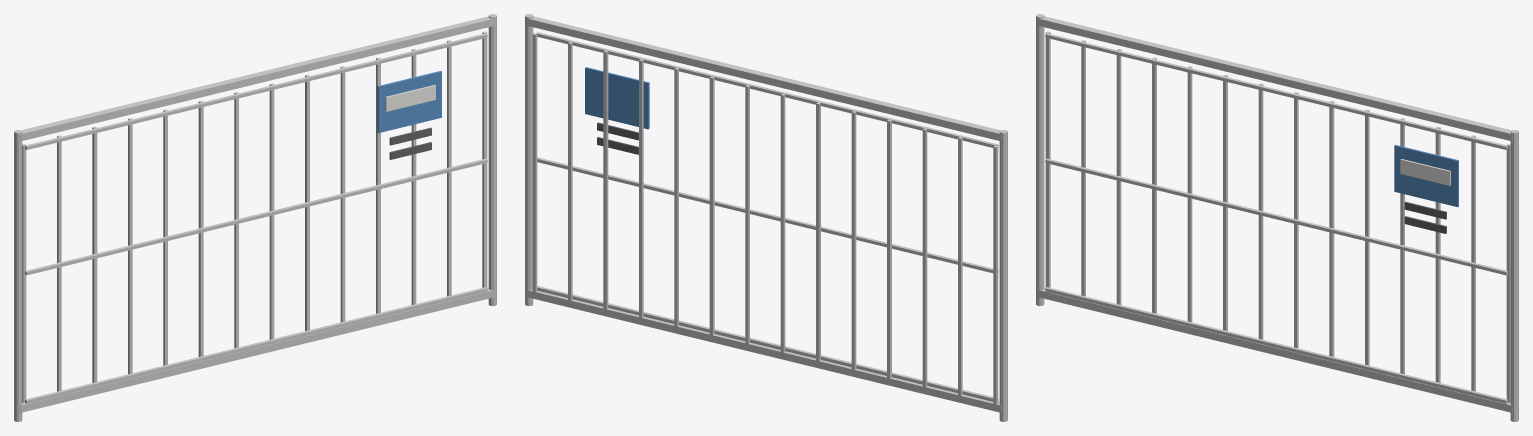
The model's file is sitefence.glb.
The picture shows the model from 3 angles, left to right: view 1: azimuth 30°, elevation 25°; view 2: azimuth 150°, elevation 25°; view 3: azimuth 330°, elevation 25°; orthographic projection.
Parts seen in each view (by area): view 1: demolition-and-site-clearance-heras-fence-panel; view 2: demolition-and-site-clearance-heras-fence-panel; view 3: demolition-and-site-clearance-heras-fence-panel.
Part boxes in pixels (x1,y1,x2,y2): demolition-and-site-clearance-heras-fence-panel: (14, 14, 496, 421); demolition-and-site-clearance-heras-fence-panel: (525, 14, 1007, 421); demolition-and-site-clearance-heras-fence-panel: (1036, 14, 1518, 421).
Size of the model in its own units: 3.49 by 2 by 0.0749.
